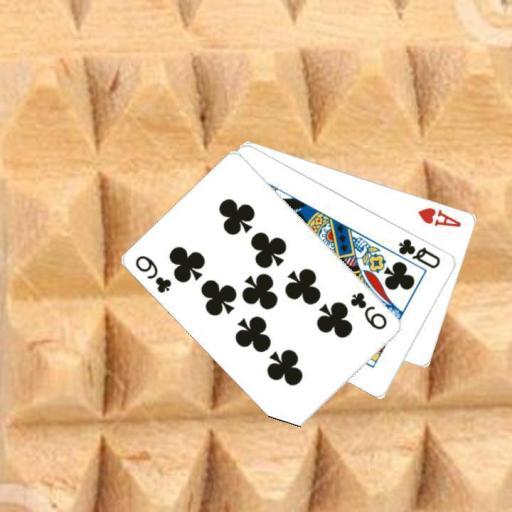card-corner: (347, 289, 390, 331), (132, 252, 174, 295), (396, 235, 442, 270), (415, 204, 463, 228)
